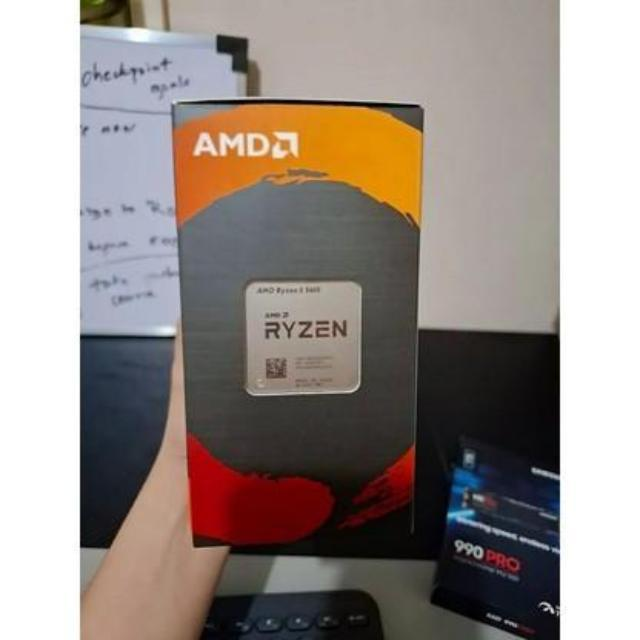CPU: (244, 279, 358, 396)
